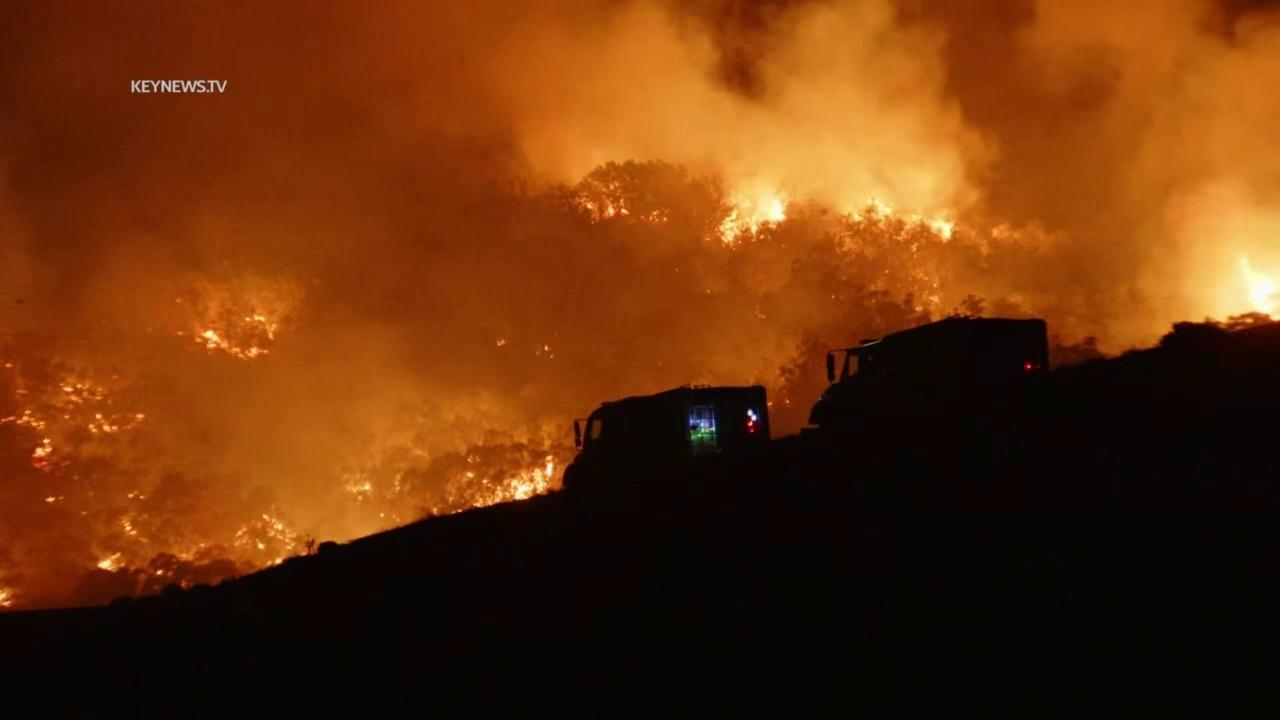fire: (54, 375, 146, 435), (466, 454, 557, 511), (714, 184, 789, 250), (190, 311, 278, 364), (231, 502, 301, 568), (1230, 253, 1280, 336), (0, 407, 54, 470), (603, 204, 671, 227), (94, 550, 130, 576), (864, 192, 894, 223), (923, 219, 957, 243), (349, 478, 375, 501), (119, 517, 143, 539), (0, 589, 19, 610)
smoke: (0, 0, 1280, 616)
